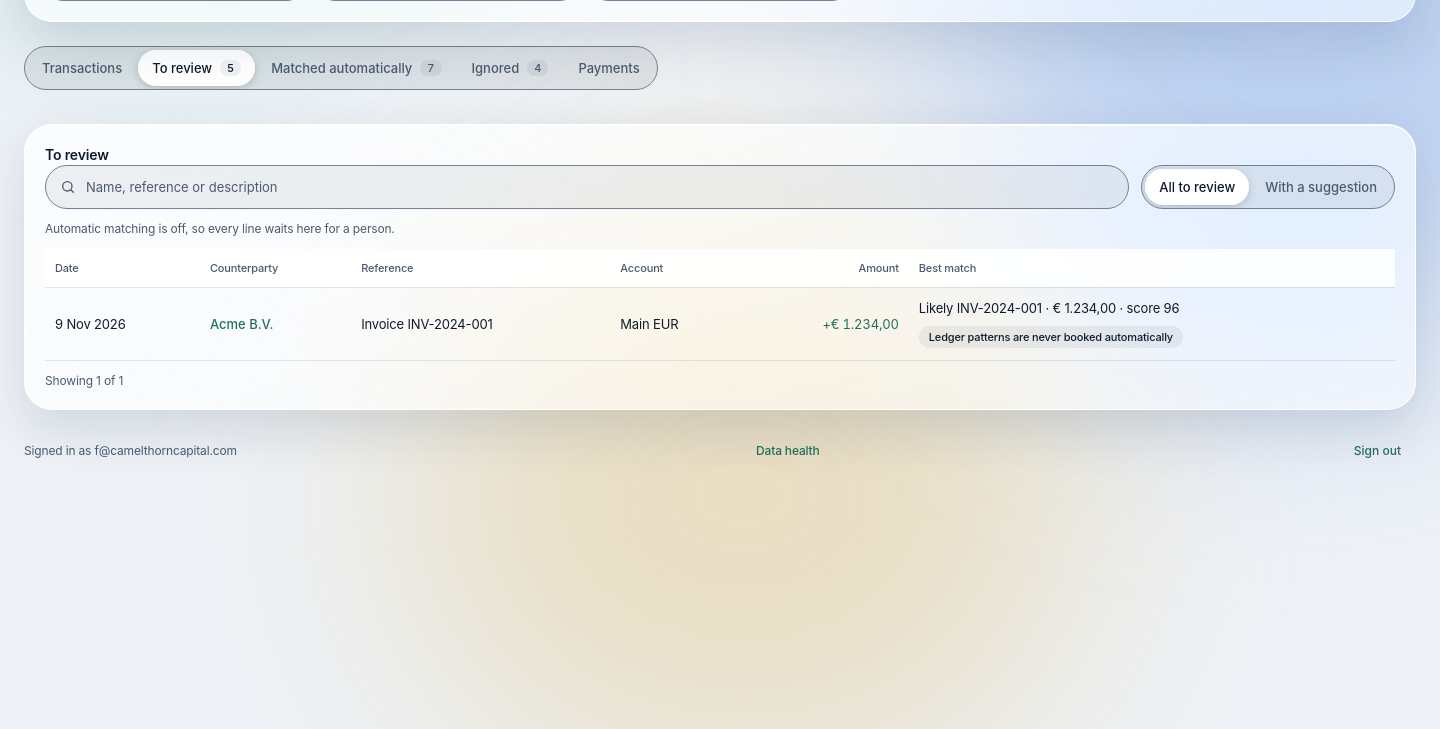
Test case: transaction and candidates › Escape closes the sheet and returns focus to the row
(page scrolled)
Click the button "Acme B.V.": coordinates (242, 324) [210, 312, 274, 336]
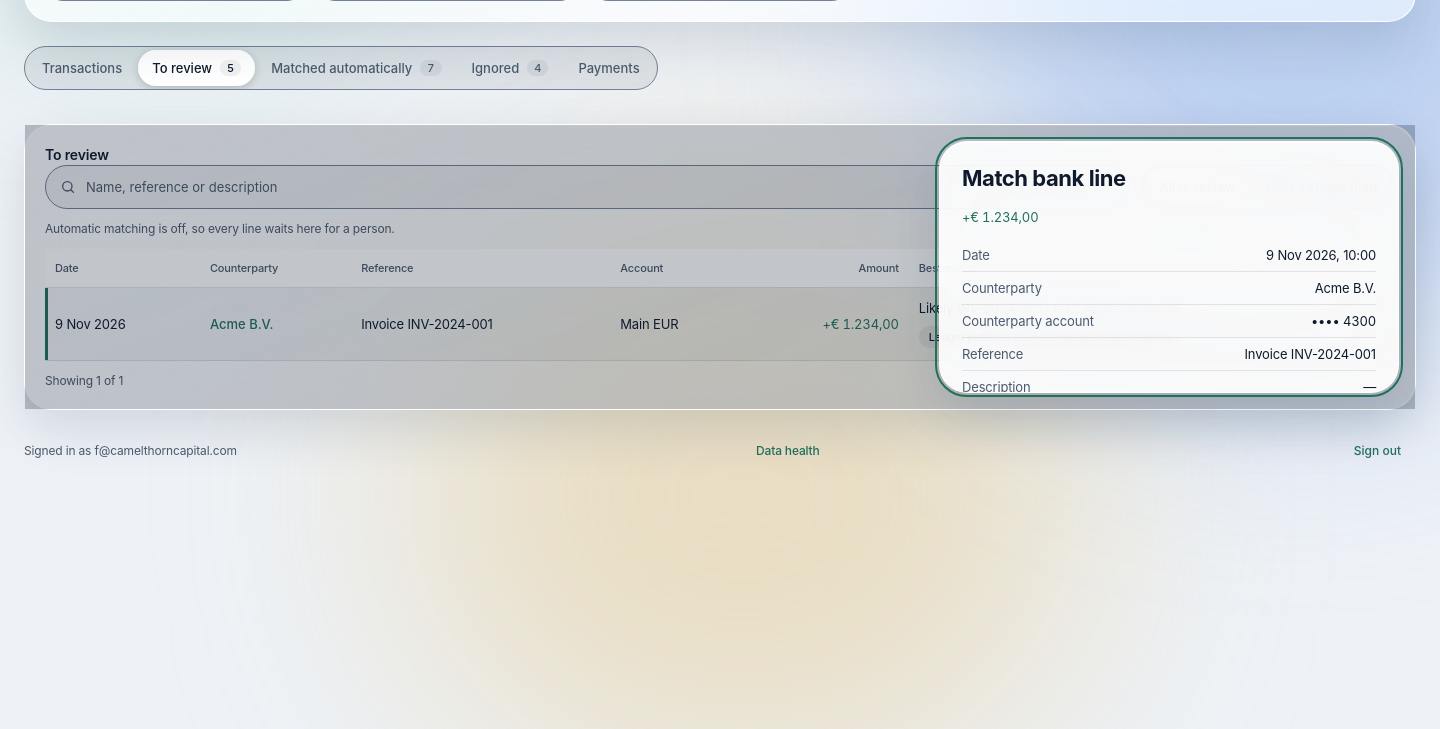
Now the text "Counterparty" is shown, box [962, 280, 1042, 296]
Press Escape
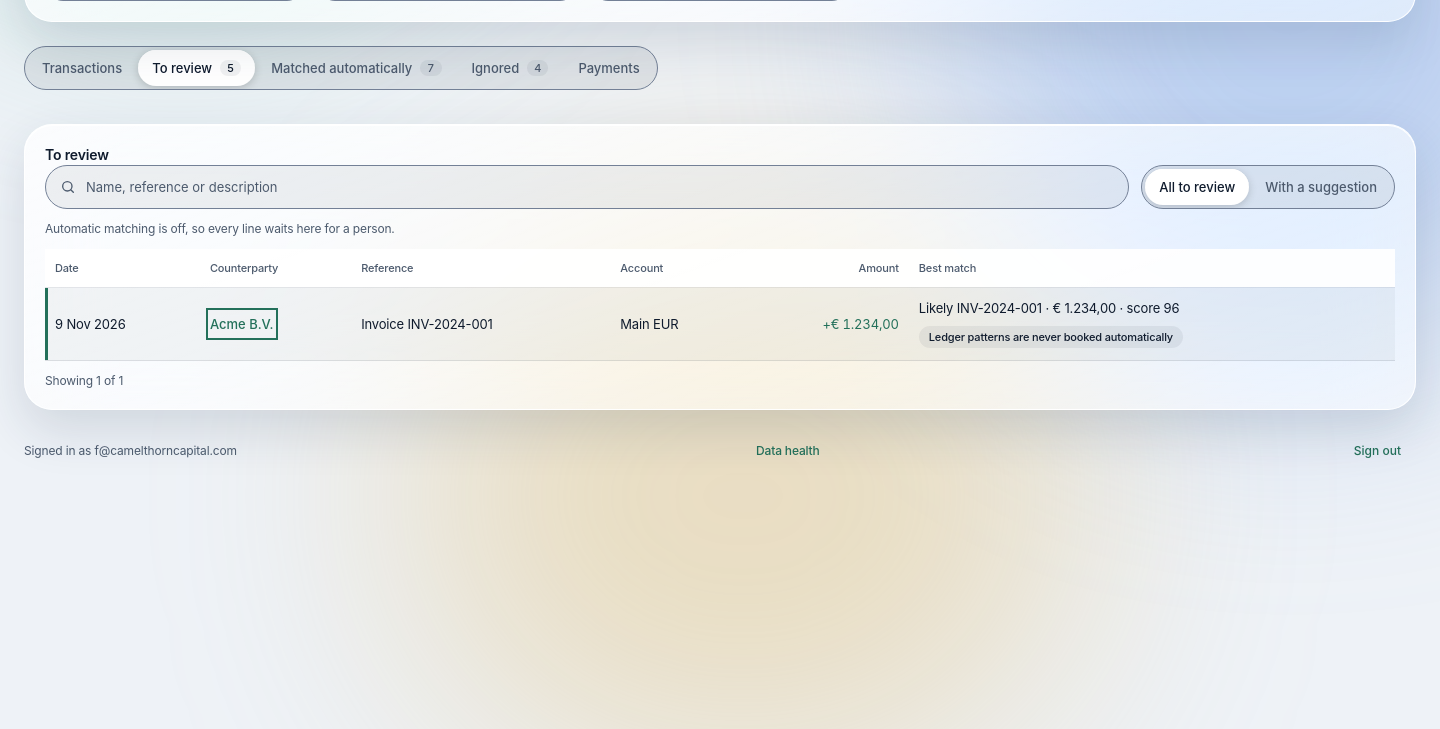
Expected: the button "Acme B.V." is shown, [210, 312, 274, 336]
Now the dialog is gone
